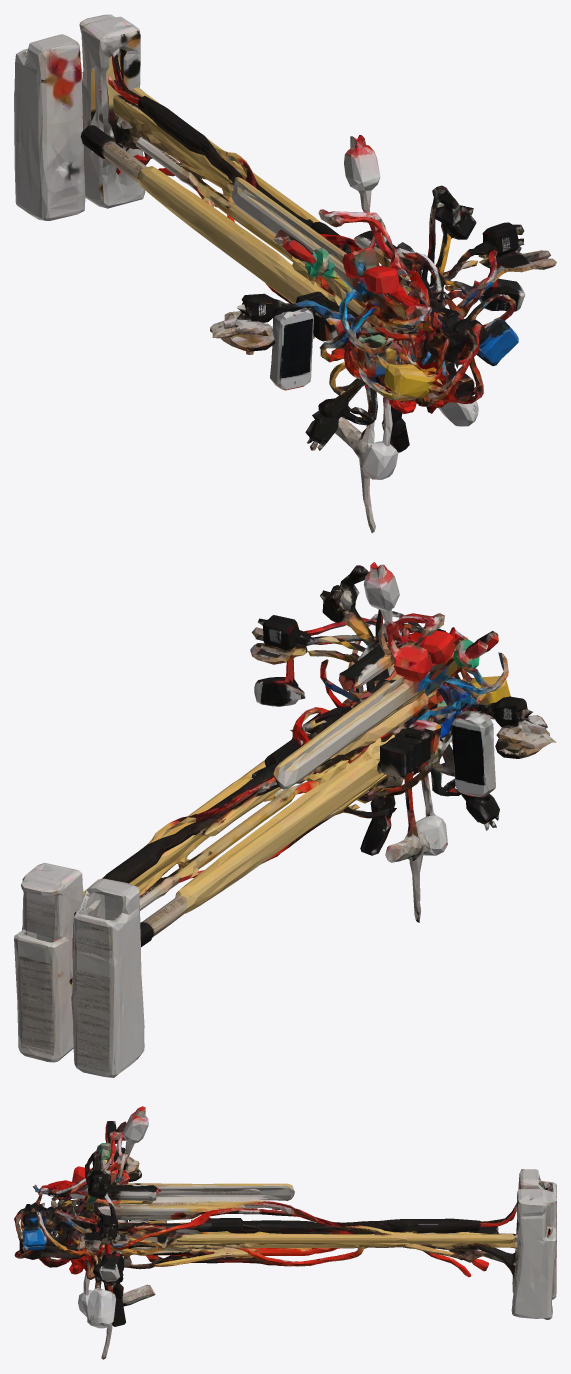
File: belly (54).glb
The picture shows the model from 3 angles, top to bottom: view 1: azimuth 30°, elevation 25°; view 2: azimuth 150°, elevation 25°; view 3: azimuth 270°, elevation 25°; orthographic projection. The views are drawn at different scales.
Parts seen in each view (by area): view 1: Hy21_Mesh.obj; view 2: Hy21_Mesh.obj; view 3: Hy21_Mesh.obj.
Part boxes in pixels (x1,y1,x2,y2): Hy21_Mesh.obj: [14, 14, 556, 532]; Hy21_Mesh.obj: [14, 562, 556, 1077]; Hy21_Mesh.obj: [14, 1106, 556, 1359].
Size of the model in its own units: 0.9081 by 1.02 by 1.95.
1 material, 1 textured.
